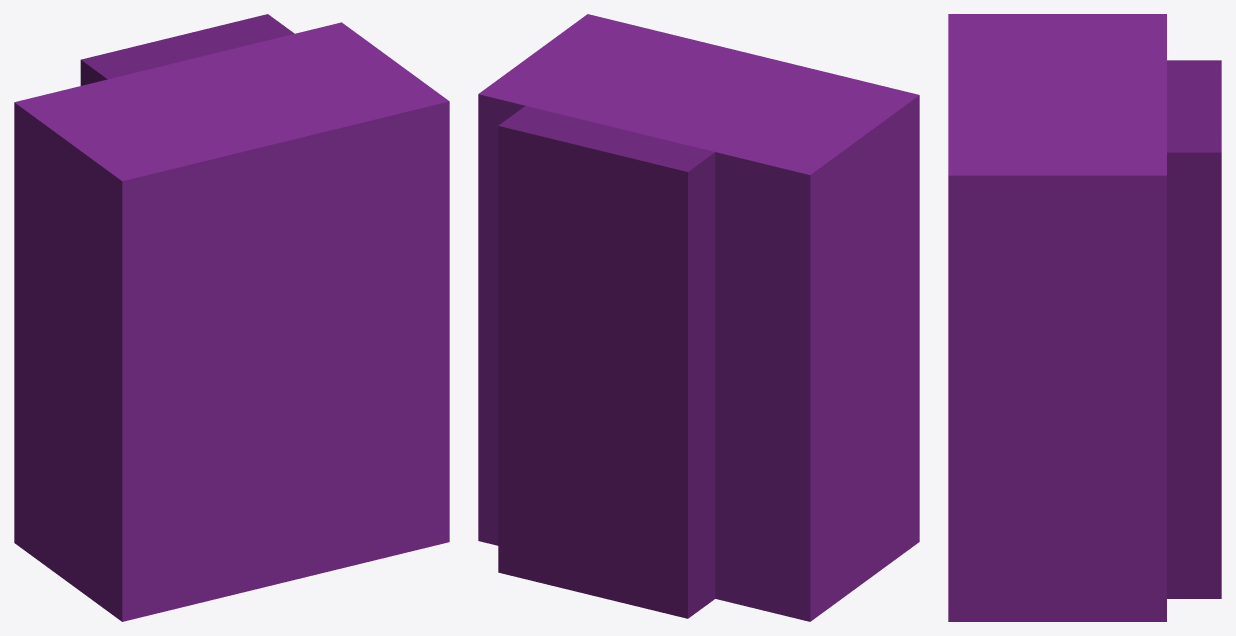
File: legendario_pechera_cultista_01.glb
3 renders of one model, left to right at view 1: azimuth 30°, elevation 25°; view 2: azimuth 150°, elevation 25°; view 3: azimuth 270°, elevation 25°, orthographic.
Visible parts, largest first — view 1: legendario_pechera_cultista; view 2: legendario_pechera_cultista; view 3: legendario_pechera_cultista.
Boxes of the visible parts, x1=… form: legendario_pechera_cultista: x1=14, y1=14, x2=449, y2=621; legendario_pechera_cultista: x1=478, y1=14, x2=919, y2=621; legendario_pechera_cultista: x1=948, y1=14, x2=1221, y2=621.
Bounding box in the file's own units: 0.5833 × 0.75 × 0.4167.
